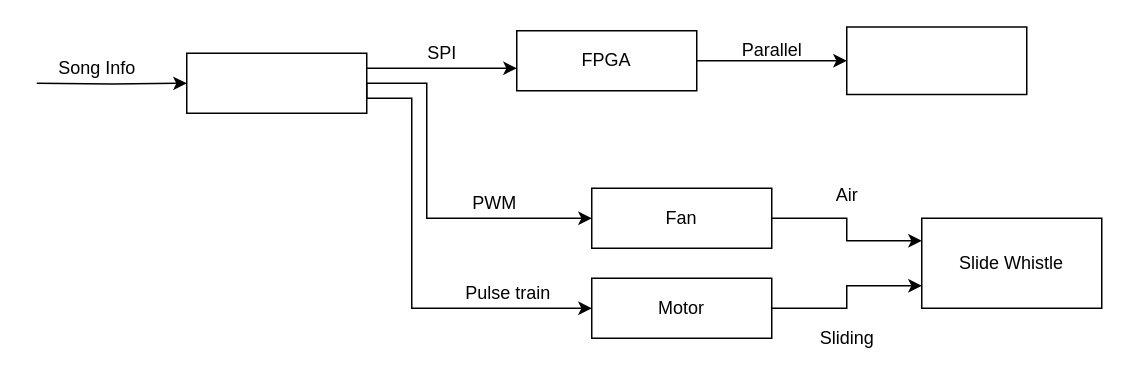
This 1128x386 diagram has some shape labels left out. The centre of each missing label's shape, as x and y in pixels:
"LCD" goes at [936,60].
"MCU" goes at [276,82].
